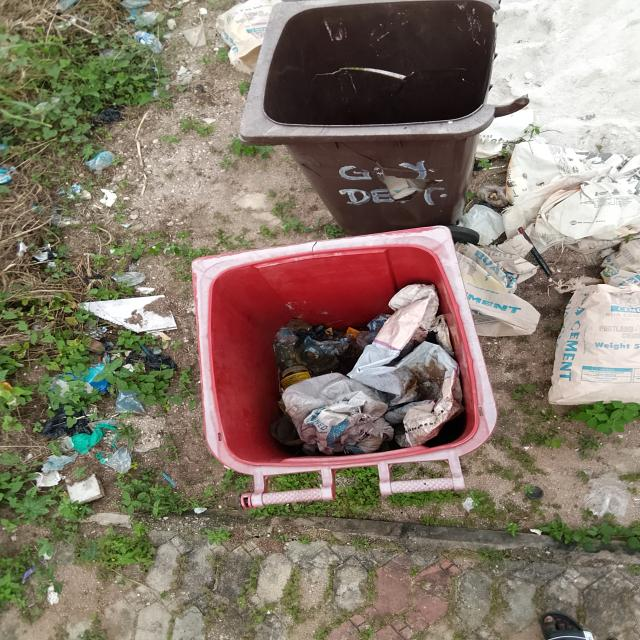half-full: (187, 234, 499, 469), (234, 0, 508, 133)
